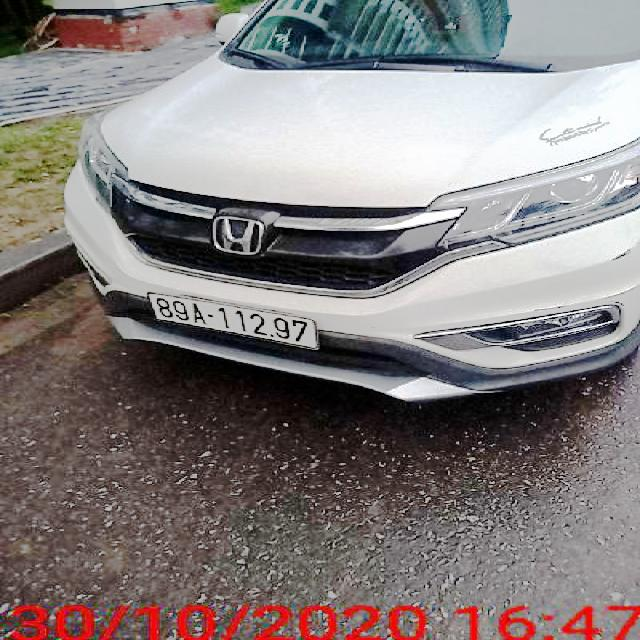license_plate: (147, 294, 315, 351)
